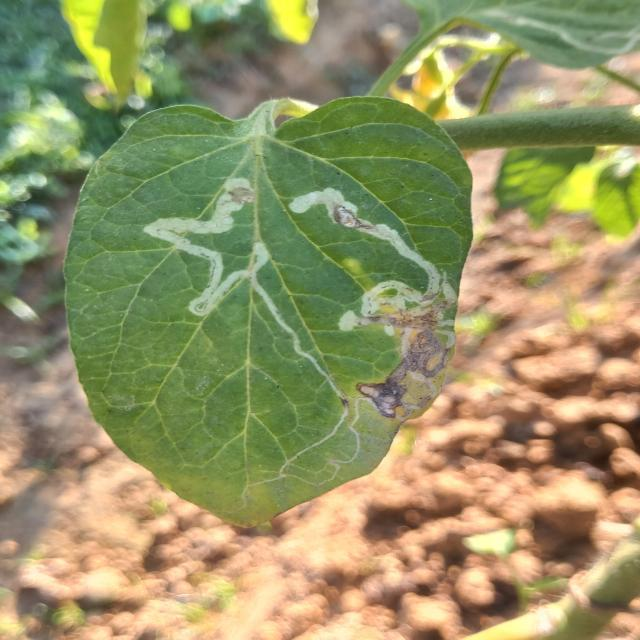Tuta absoluta: (290, 160, 488, 428), (245, 232, 357, 473), (142, 170, 295, 321)
